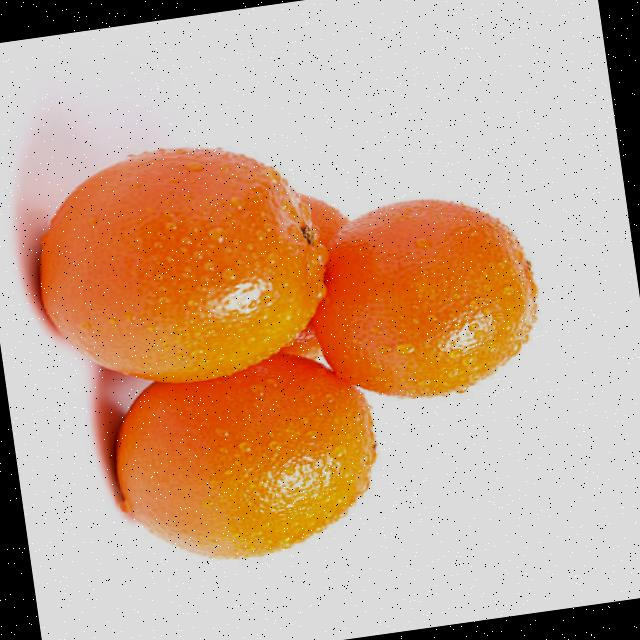Ripe: (16, 117, 348, 404), (103, 346, 396, 576), (306, 176, 558, 413)
